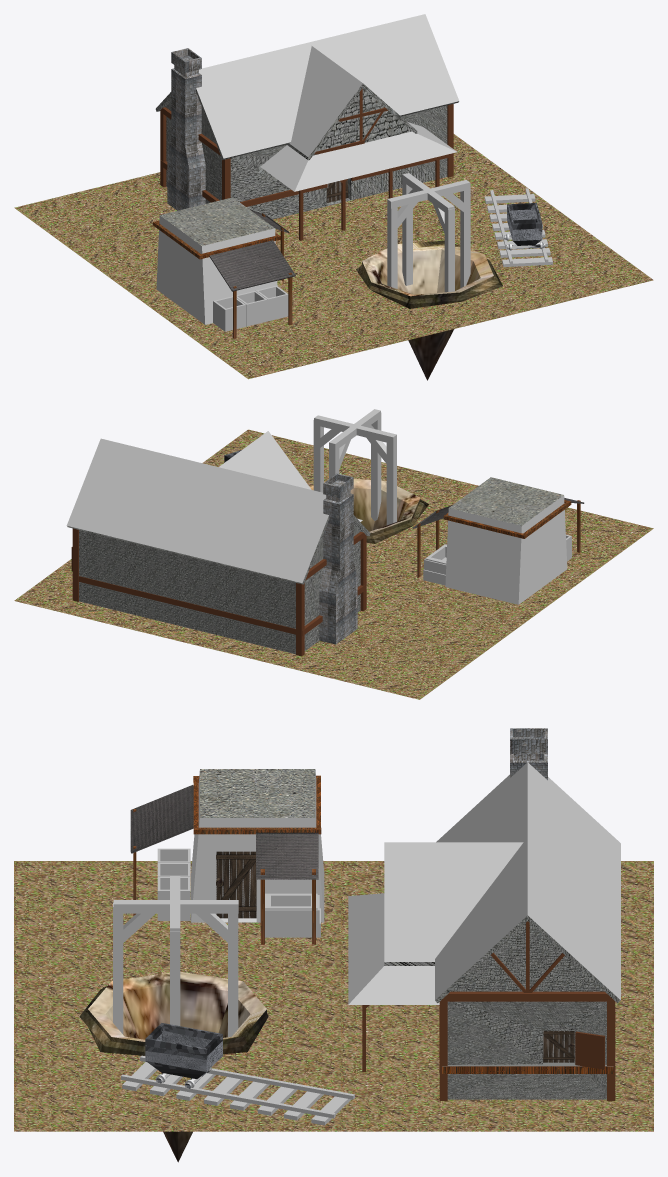
File: HumanMine.fbx
3 views of the same model, one above another, from view 1: azimuth 30°, elevation 25°; view 2: azimuth 150°, elevation 25°; view 3: azimuth 270°, elevation 25° (orthographic). The views are drawn at different scales.
Parts seen in each view (by area): view 1: Mine, TechoCasa, Casa, Agujero, CuadroMaderaMina, Estructura caseta, chimney, MaderaCasa, TechoCaseta, tenderete, Caseta, vias (+2 smaller); view 2: Mine, TechoCasa, Casa, Estructura caseta, chimney, CuadroMaderaMina, MaderaCasa, TechoCaseta, Agujero, MaderaCaseta, Caseta; view 3: Mine, TechoCasa, Casa, Agujero, MaderaCasa, CuadroMaderaMina, tenderete, TechoCaseta, Estructura caseta, Caseta, Carrito, vias (+5 smaller).
Part boxes in pixels (<box>): Mine: <box>14,134,653,379</box>; TechoCasa: <box>196,14,458,191</box>; Casa: <box>155,83,458,219</box>; Agujero: <box>356,240,502,380</box>; CuadroMaderaMina: <box>387,173,470,292</box>; Estructura caseta: <box>156,215,277,324</box>; chimney: <box>167,48,205,210</box>; MaderaCasa: <box>160,88,453,240</box>; TechoCaseta: <box>160,197,274,245</box>; tenderete: <box>209,209,295,291</box>; Caseta: <box>213,285,288,331</box>; vias: <box>484,194,552,266</box>; Mine: <box>14,429,653,699</box>; TechoCasa: <box>67,431,362,583</box>; Casa: <box>67,515,370,654</box>; Estructura caseta: <box>445,495,567,604</box>; chimney: <box>319,473,357,644</box>; CuadroMaderaMina: <box>313,409,396,525</box>; MaderaCasa: <box>71,528,366,656</box>; TechoCaseta: <box>449,477,563,525</box>; Agujero: <box>310,478,428,543</box>; MaderaCaseta: <box>417,500,580,577</box>; Caseta: <box>423,534,571,585</box>; Mine: <box>14,861,653,1131</box>; TechoCasa: <box>348,762,620,1004</box>; Casa: <box>384,915,620,1099</box>; Agujero: <box>79,971,268,1162</box>; MaderaCasa: <box>362,921,615,1100</box>; CuadroMaderaMina: <box>113,875,238,1036</box>; tenderete: <box>130,785,318,879</box>; TechoCaseta: <box>200,769,315,817</box>; Estructura caseta: <box>191,770,324,922</box>; Caseta: <box>157,848,320,937</box>; Carrito: <box>145,1023,222,1089</box>; vias: <box>122,1062,351,1125</box>.
Size of the model in its own units: 1109 by 677 by 1109.
